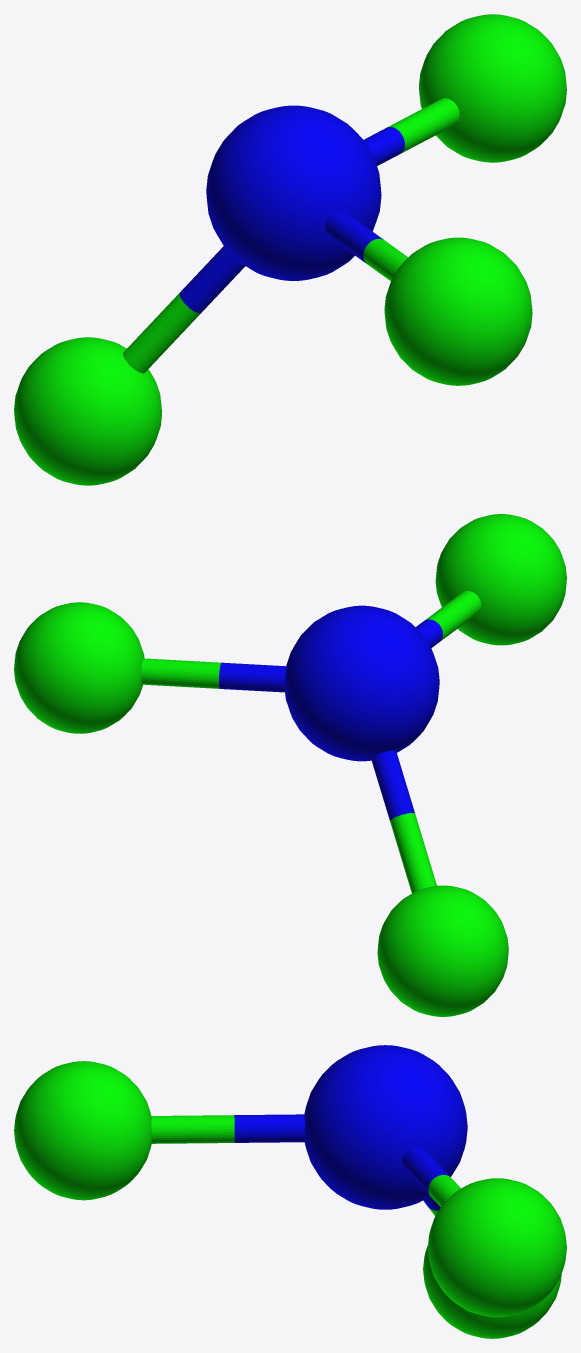
Rendered from nitrogentrifluoride.fbx.
3 views of the same model, one above another, from view 1: azimuth 30°, elevation 25°; view 2: azimuth 150°, elevation 25°; view 3: azimuth 270°, elevation 25° (orthographic). The views are drawn at different scales.
Parts seen in each view (by area): view 1: N01, F04, F02, F03, N01-F02, N01-F03, N01-F04; view 2: N01, F02, F03, F04, N01-F03, N01-F02, N01-F04; view 3: N01, F03, F04, N01-F04, F02, N01-F03.
Part boxes in pixels (x1=…): N01: x1=206, y1=105, x2=381, y2=280; F04: x1=384, y1=237, x2=532, y2=385; F02: x1=14, y1=337, x2=161, y2=485; F03: x1=419, y1=14, x2=566, y2=162; N01-F02: x1=123, y1=246, x2=245, y2=373; N01-F03: x1=364, y1=98, x2=459, y2=165; N01-F04: x1=325, y1=211, x2=407, y2=280; N01: x1=284, y1=605, x2=439, y2=761; F02: x1=377, y1=885, x2=508, y2=1016; F03: x1=14, y1=602, x2=144, y2=733; F04: x1=435, y1=514, x2=566, y2=645; N01-F03: x1=141, y1=658, x2=285, y2=692; N01-F02: x1=371, y1=750, x2=436, y2=893; N01-F04: x1=415, y1=591, x2=481, y2=647; N01: x1=304, y1=1045, x2=467, y2=1209; F03: x1=427, y1=1178, x2=566, y2=1317; F04: x1=14, y1=1061, x2=151, y2=1200; N01-F04: x1=151, y1=1114, x2=304, y2=1143; F02: x1=423, y1=1245, x2=561, y2=1338; N01-F03: x1=402, y1=1147, x2=460, y2=1206.
Bounding box in the file's own units: 250 × 165 × 238.
